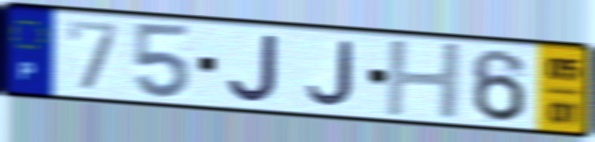5: (131, 22, 194, 102)
6: (470, 47, 530, 124)
7: (64, 18, 120, 94)
H: (383, 39, 465, 121)
J: (225, 32, 281, 105), (303, 39, 357, 109)
